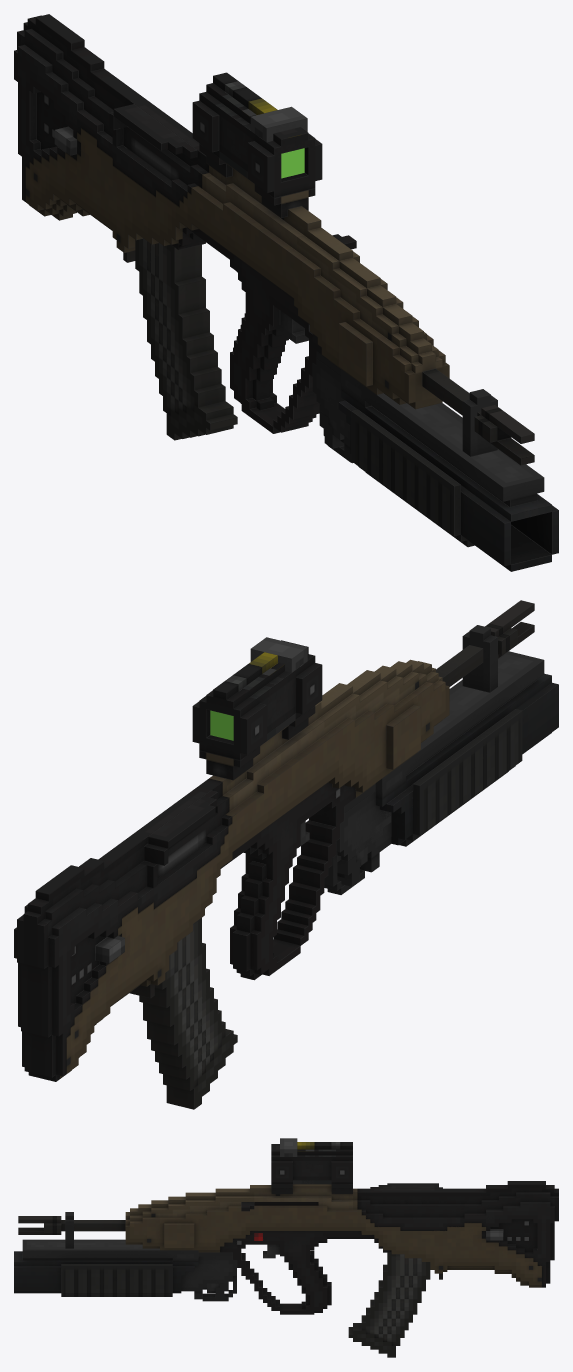
File: RD_VEKTOR_CR21_A12.glb
3 views of the same model, one above another, from view 1: azimuth 30°, elevation 25°; view 2: azimuth 150°, elevation 25°; view 3: azimuth 270°, elevation 25° (orthographic). The views are drawn at different scales.
Parts seen in each view (by area): view 1: VEKTOR_CR21, GP_M203, VEKTOR_CR21_CLIP, VECTOR_CR21_SCOPE, SCOPE_HOLOSUN, GRIP2; view 2: VEKTOR_CR21, GP_M203, VEKTOR_CR21_CLIP, VECTOR_CR21_SCOPE, GRIP2, SCOPE_HOLOSUN; view 3: VEKTOR_CR21, GP_M203, VEKTOR_CR21_CLIP, VECTOR_CR21_SCOPE, GRIP2, SCOPE_HOLOSUN.
Part boxes in pixels (bbox=[...]): VEKTOR_CR21: bbox=[14, 14, 534, 465]; GP_M203: bbox=[312, 359, 558, 571]; VEKTOR_CR21_CLIP: bbox=[135, 238, 237, 440]; VECTOR_CR21_SCOPE: bbox=[192, 72, 322, 198]; SCOPE_HOLOSUN: bbox=[246, 106, 307, 183]; GRIP2: bbox=[316, 352, 398, 448]; VEKTOR_CR21: bbox=[14, 600, 534, 1081]; GP_M203: bbox=[324, 625, 558, 894]; VEKTOR_CR21_CLIP: bbox=[139, 918, 237, 1109]; VECTOR_CR21_SCOPE: bbox=[192, 640, 322, 760]; GRIP2: bbox=[337, 760, 426, 886]; SCOPE_HOLOSUN: bbox=[250, 637, 307, 734]; VEKTOR_CR21: bbox=[18, 1181, 558, 1314]; GP_M203: bbox=[14, 1212, 236, 1301]; VEKTOR_CR21_CLIP: bbox=[348, 1252, 430, 1357]; VECTOR_CR21_SCOPE: bbox=[271, 1142, 352, 1184]; GRIP2: bbox=[198, 1252, 232, 1299]; SCOPE_HOLOSUN: bbox=[280, 1138, 313, 1184].
Bounding box in the file's own units: 0.0984 × 0.5314 × 1.25.
Materials: 11 (11 with a texture image).
